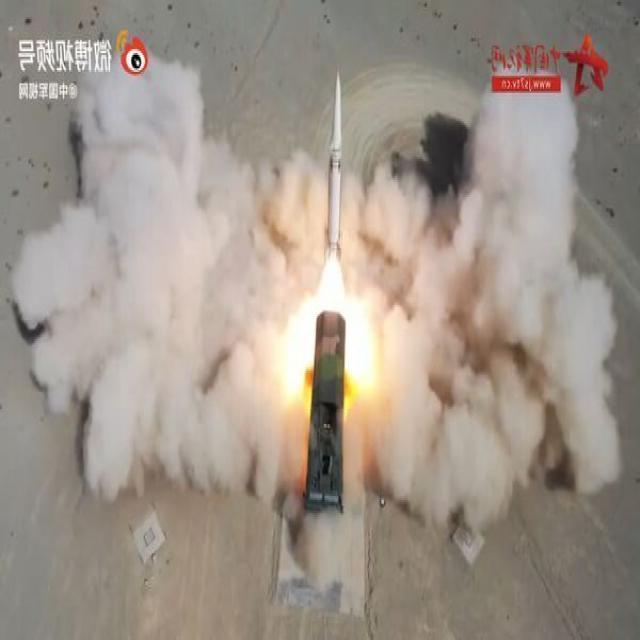Missile: (322, 62, 349, 265)
